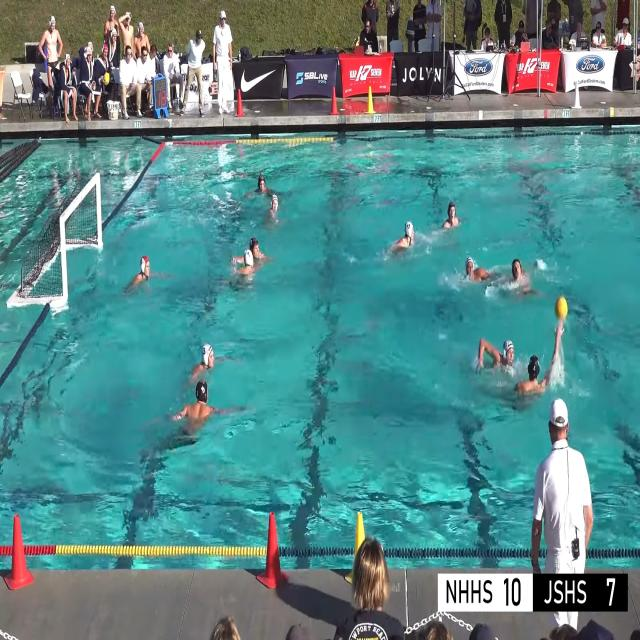ball: (555, 296, 568, 319), (103, 72, 110, 85)
